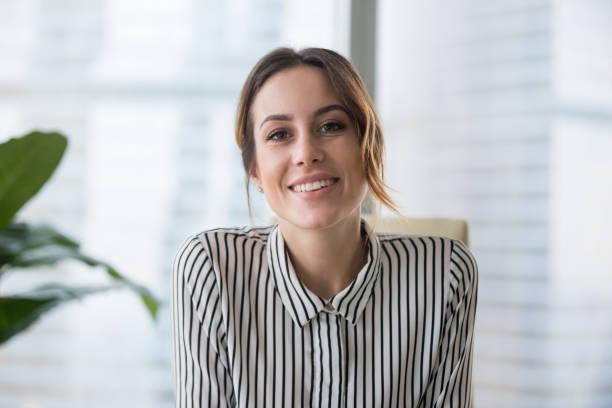no_goggle: (241, 114, 383, 148)
no_helmet: (221, 38, 388, 133)
no_vest: (171, 218, 488, 408)
